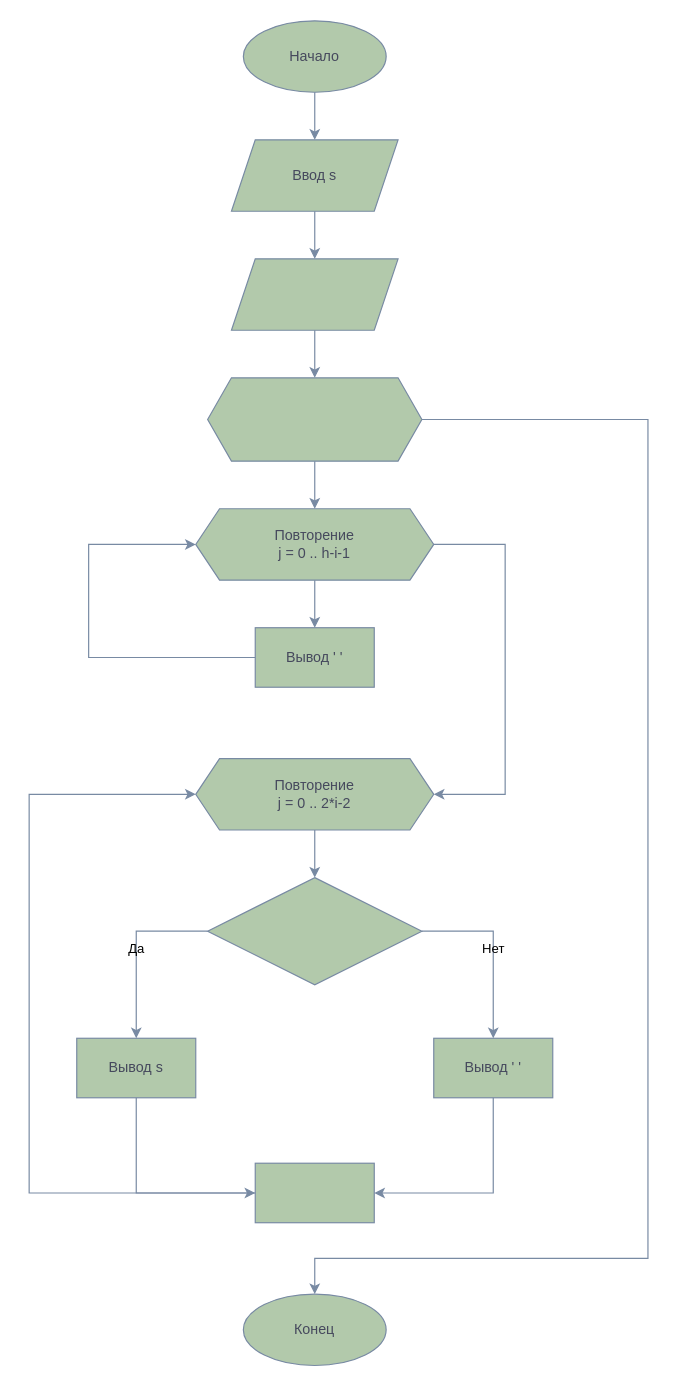
This 678x1386 diagram has some shape labels left out. The shapes that lost their labels are listed below. From the top down, each one's box as (x1, y1, x2, y2) in pixels, then its label:
(230, 258, 398, 330): Ввод h
(206, 377, 422, 461): Повторение i = 1 .. h
(206, 876, 422, 985): j == 0 ИЛИ j == 2*i-2 ИЛИ i == h ?
(254, 1162, 374, 1223): Вывод \n
